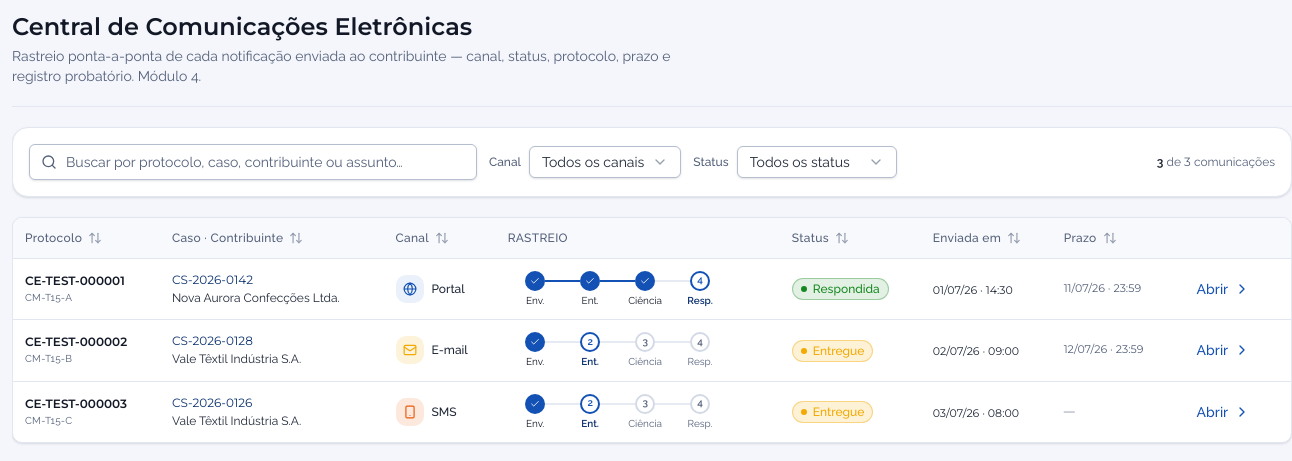
Test: ComunicacoesPage — smoke T15 › busca livre reduz o dataset visível
expect the text "CE-TEST-000001" is shown: met, box [25, 273, 125, 288]
Type "Nova Aurora" into the search field named "Buscar comunicações" at (253, 162), box [29, 144, 477, 180]
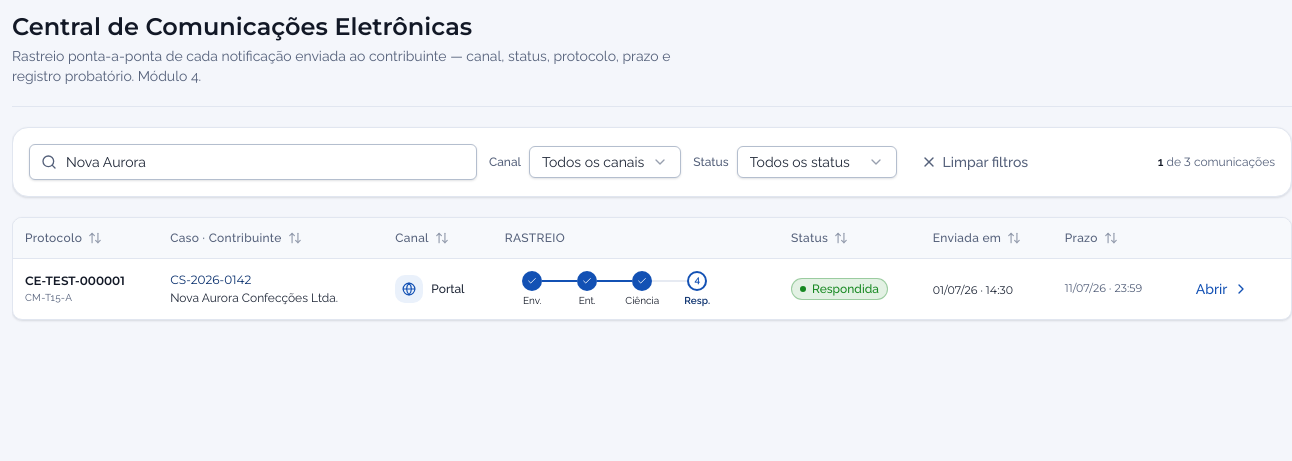
expect the text "CE-TEST-000001" is shown: met, box [25, 273, 125, 288]
expect the text "CE-TEST-000002" is gone: met
expect the text "CE-TEST-000003" is gone: met
